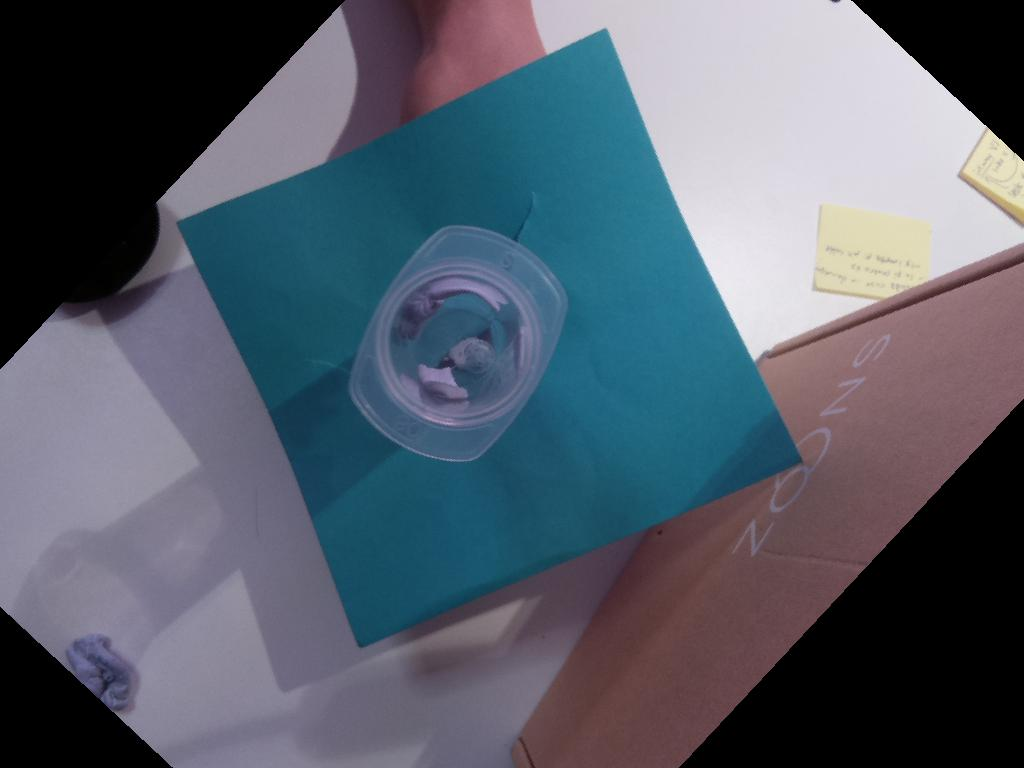dirty: (346, 225, 571, 464)
